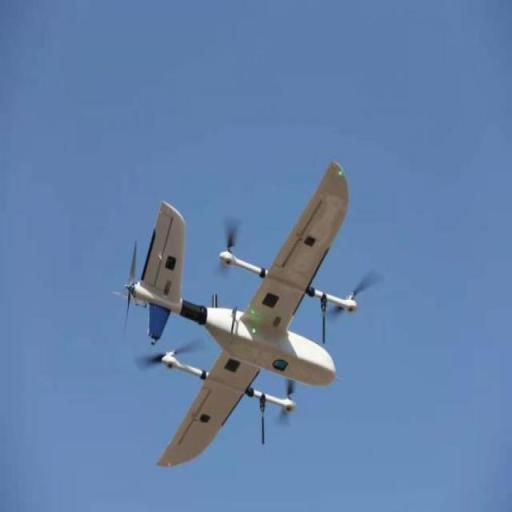uav: (119, 160, 370, 476)
